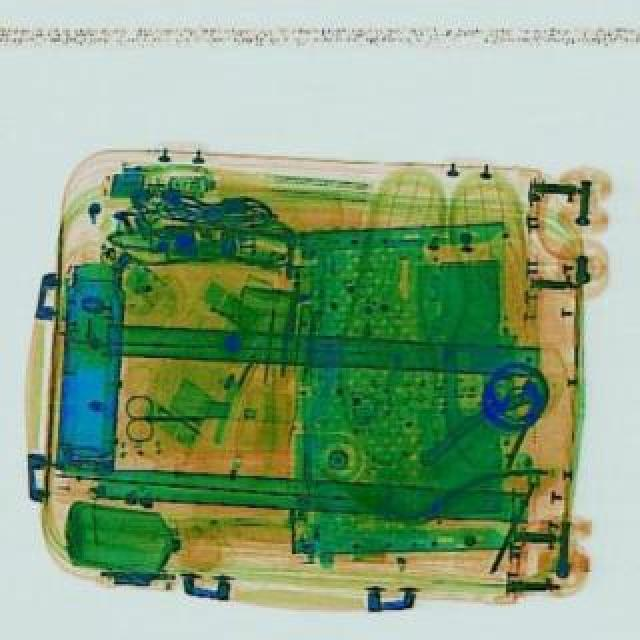pliers: (122, 394, 200, 442)
